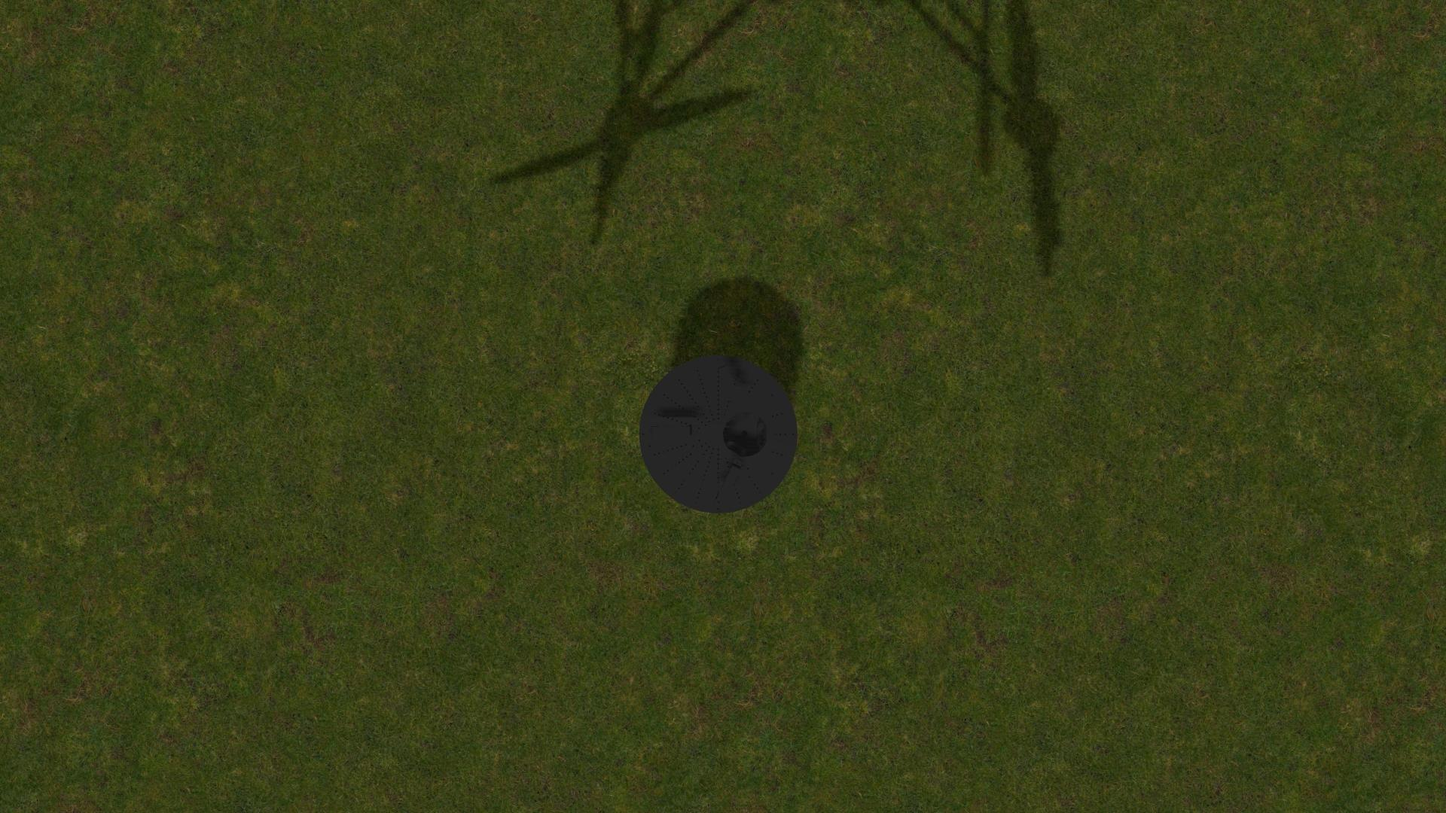alca: (715, 361, 744, 409), (714, 458, 743, 506), (647, 426, 697, 437)
armadilha: (639, 355, 797, 514)
